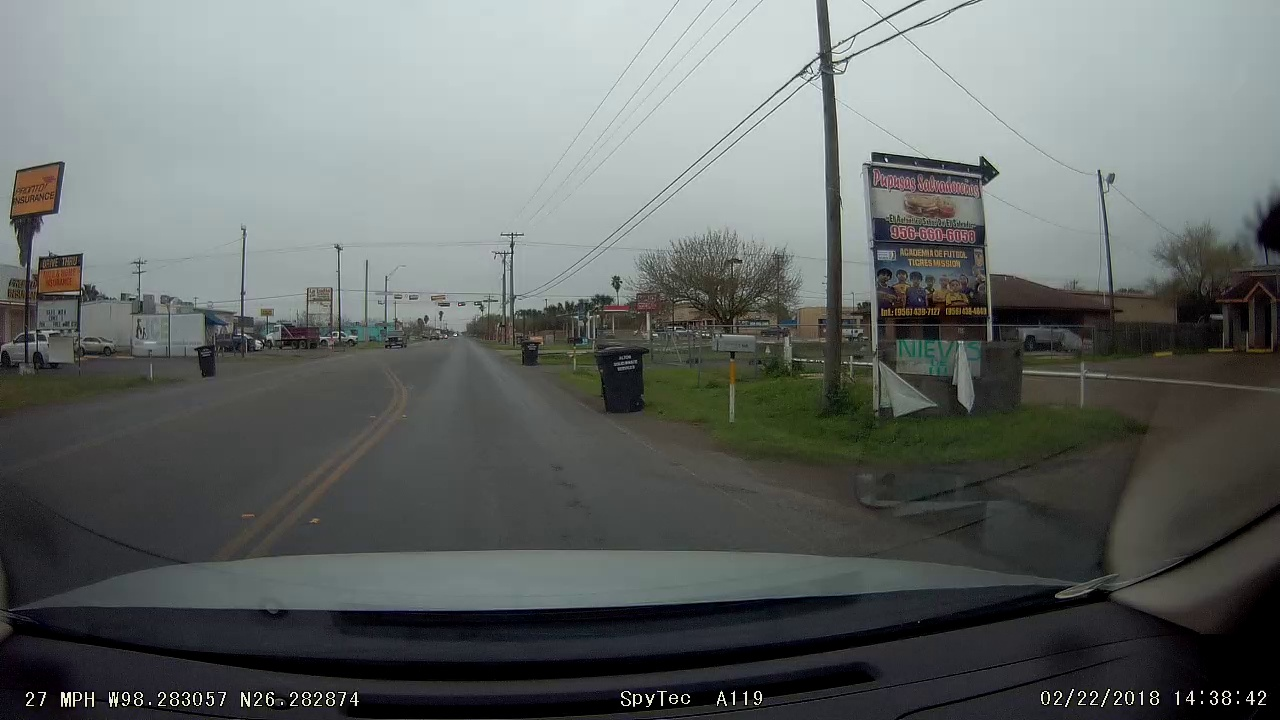blurredLine: (676, 463, 733, 520)
